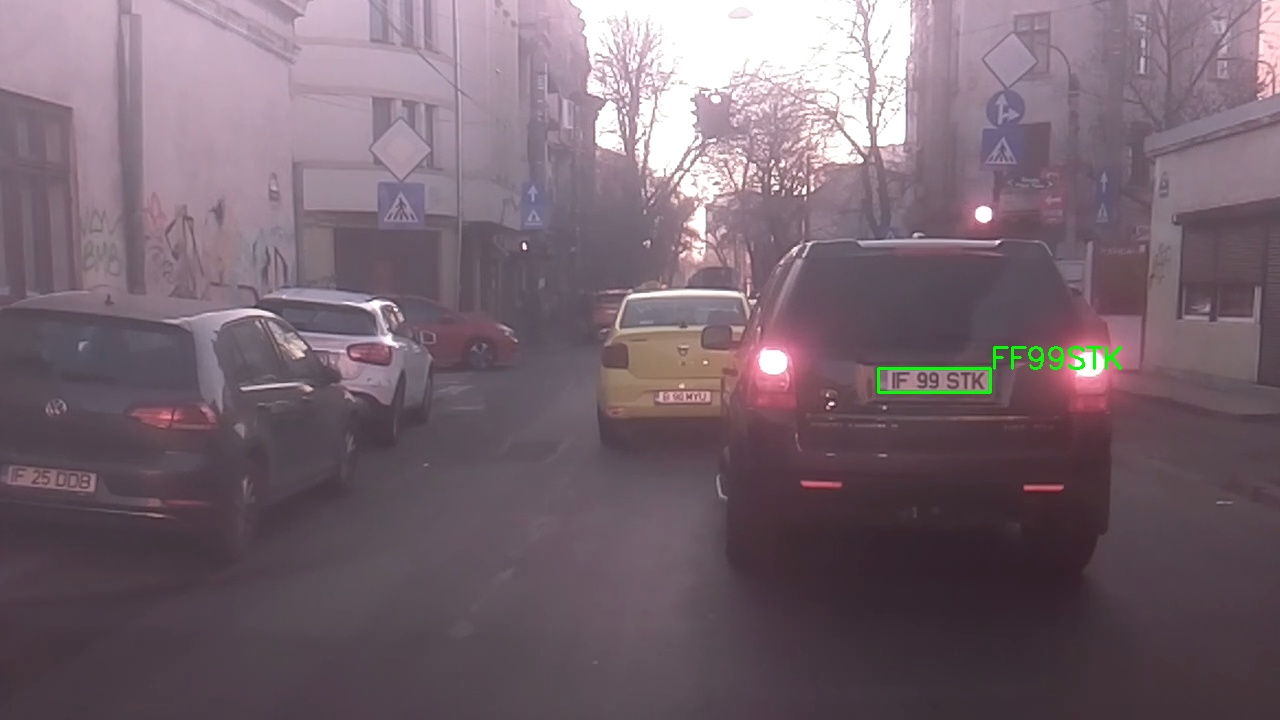license-plate: (878, 368, 991, 393)
